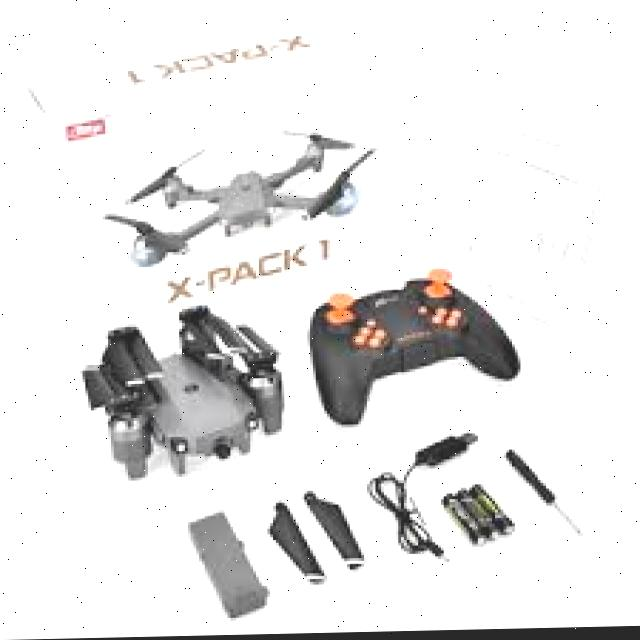drone: (94, 125, 406, 270)
